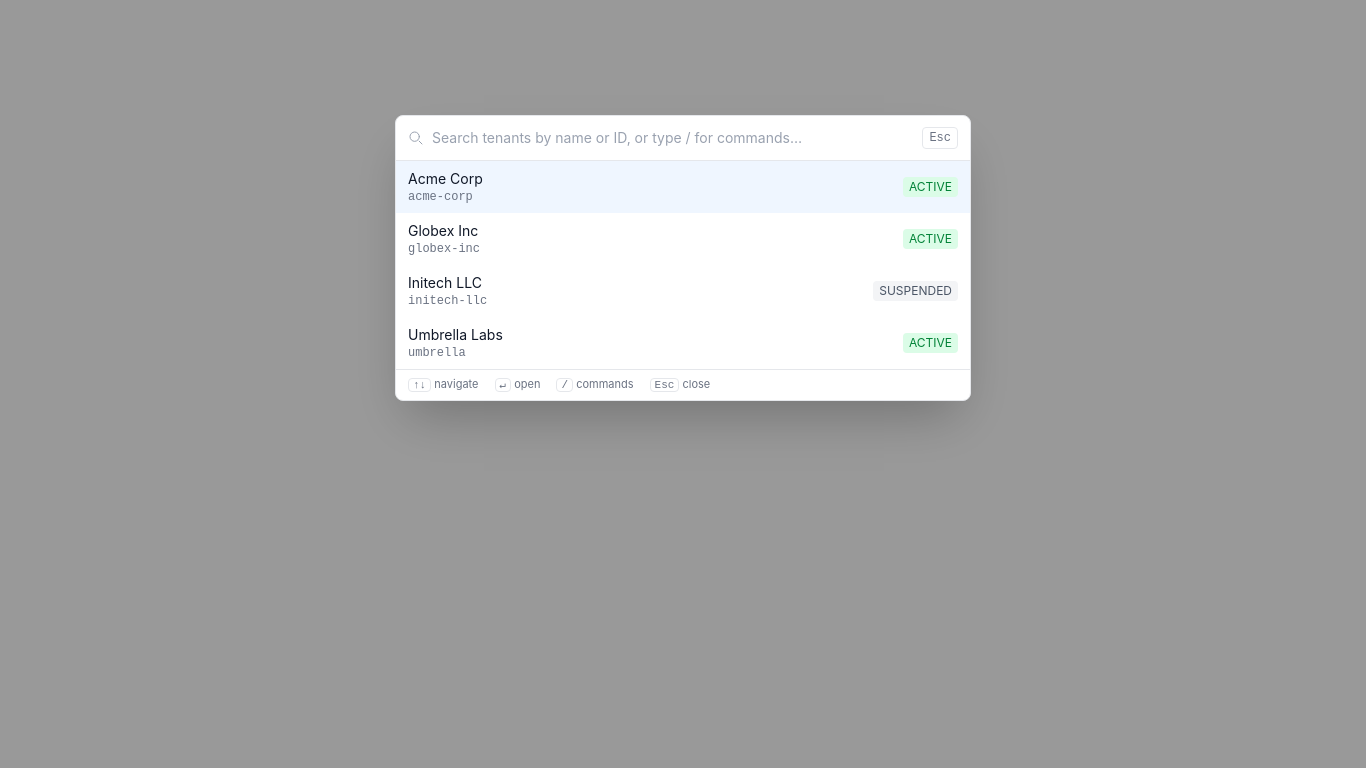
CommandPalette › shows an empty-state message when no tenant matches the query
Type "zzz-no-match" into the dropdown with id "command-palette-input".
click(673, 138); type("zzz-no-match")  # box [432,116,914,160]
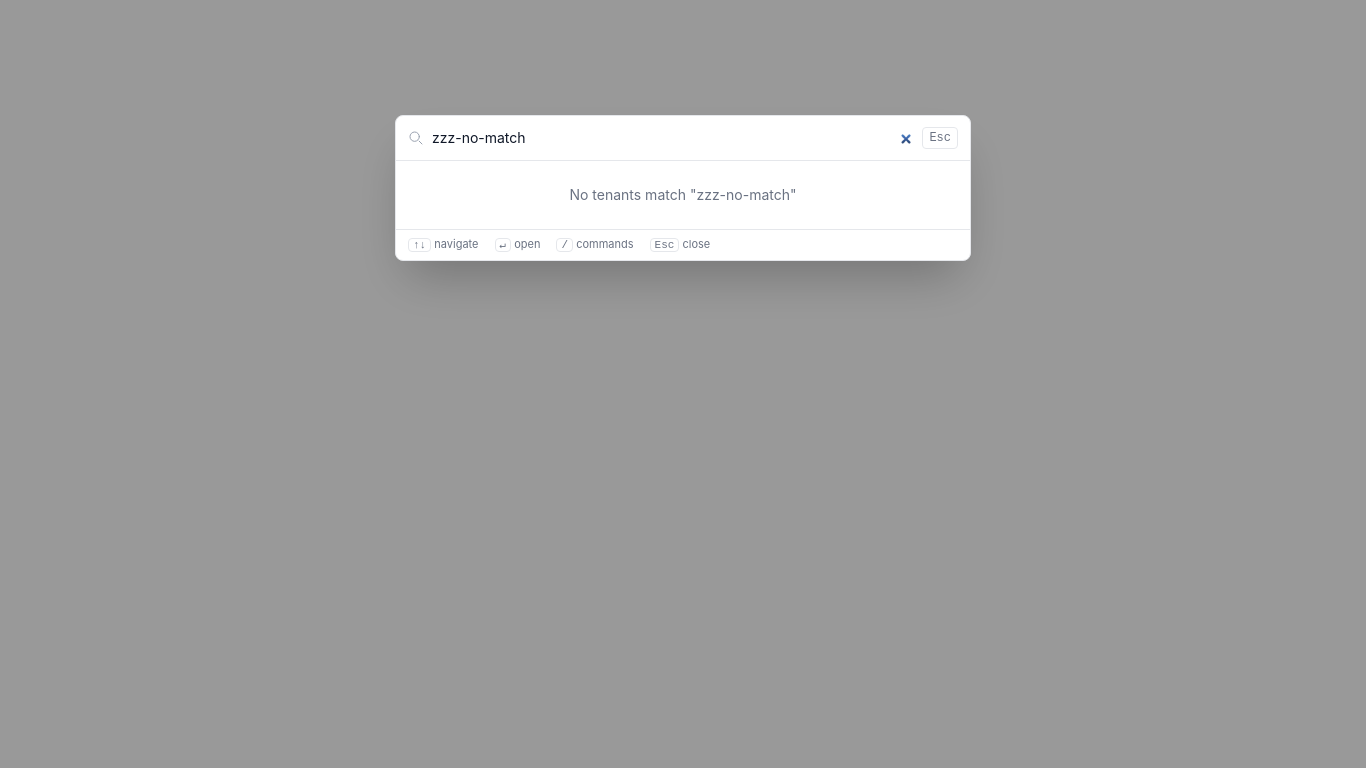
Result: the text "No tenants match" is shown at [570,186,797,203]
